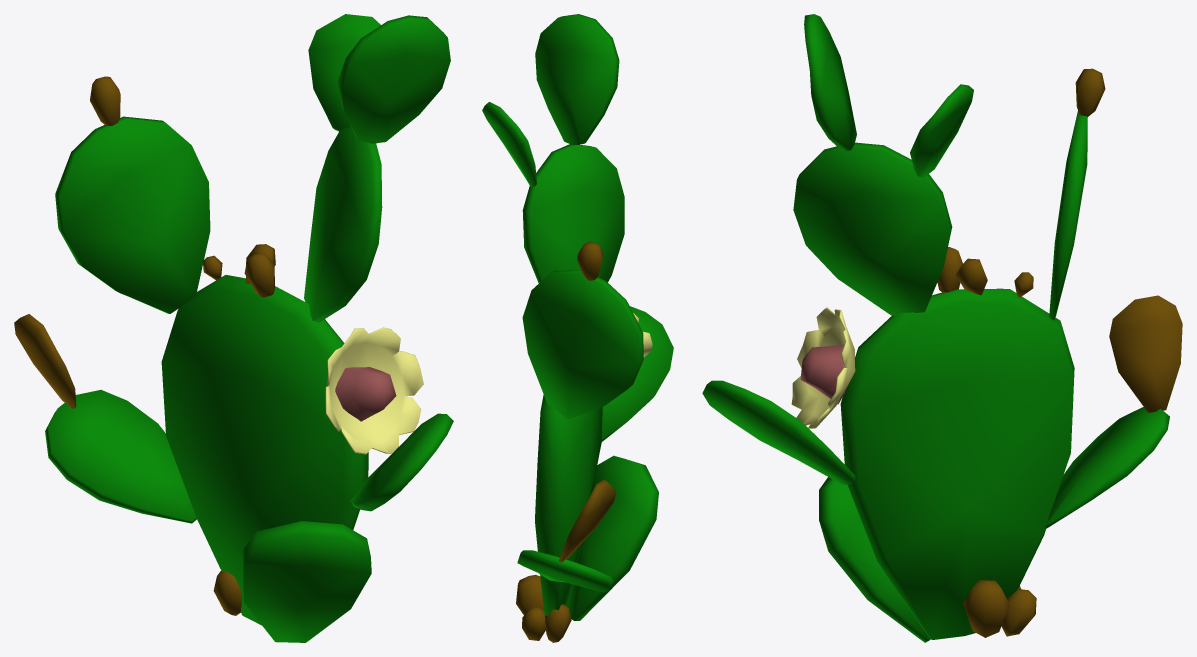
The model's file is Cactus_Leafy_01.fbx.
3 renders of one model, left to right at view 1: azimuth 30°, elevation 25°; view 2: azimuth 150°, elevation 25°; view 3: azimuth 270°, elevation 25°, orthographic. The views are drawn at different scales.
Parts seen in each view (by area): view 1: Cactus_Leafy_01; view 2: Cactus_Leafy_01; view 3: Cactus_Leafy_01.
Boxes of the visible parts, left/top/right/bottom form: Cactus_Leafy_01: left=14, top=14, right=453, bottom=642; Cactus_Leafy_01: left=482, top=14, right=673, bottom=642; Cactus_Leafy_01: left=702, top=14, right=1182, bottom=642.
Size of the model in its own units: 0.6083 by 1.47 by 0.9945.
